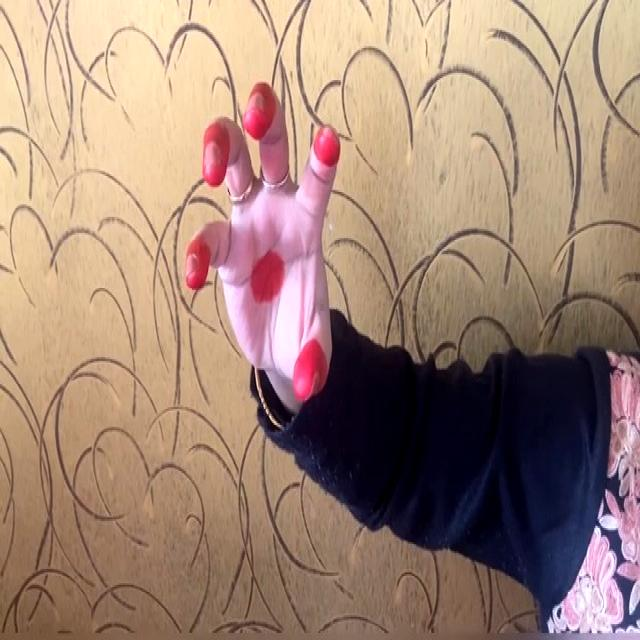Padmakosha: (172, 84, 360, 425)
